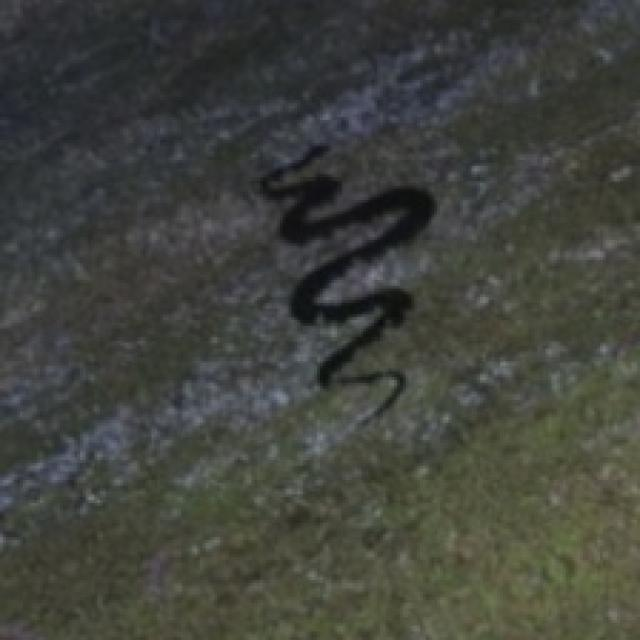king cobra: (260, 146, 434, 414)
